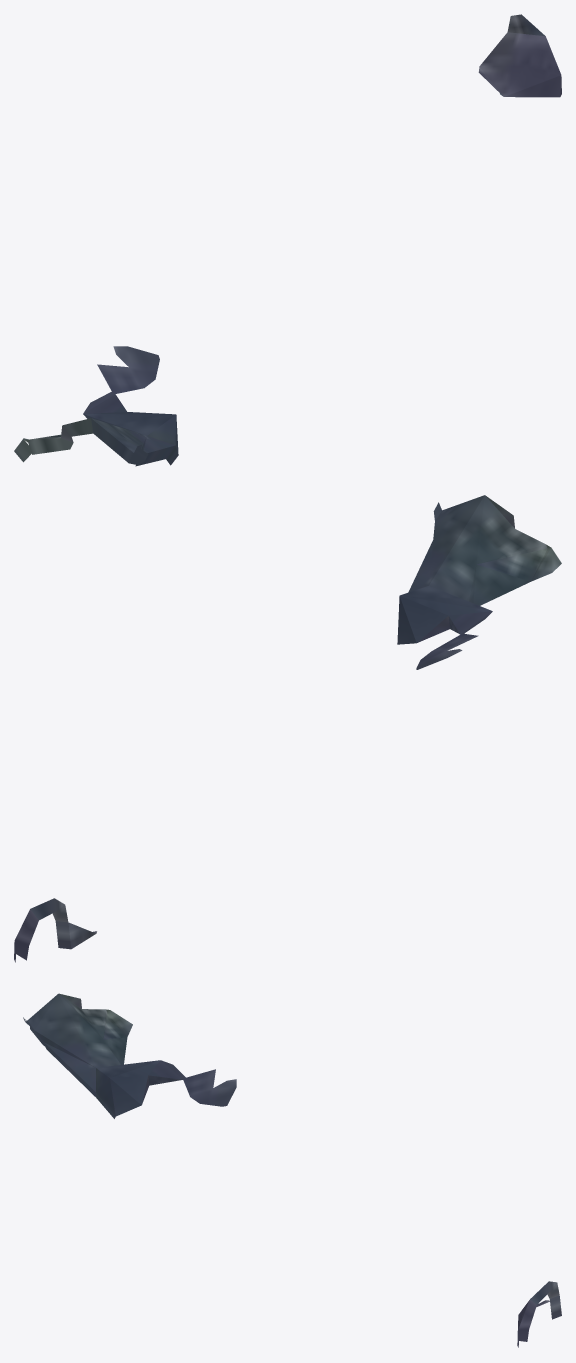
3 renders of one model, top to bottom at view 1: azimuth 30°, elevation 25°; view 2: azimuth 210°, elevation 25°; view 3: azimuth 270°, elevation 25°, orthographic. The views are drawn at different scales.
Size of the model in its own units: 30.63 by 3.71 by 22.69.
1 material, 1 textured.
